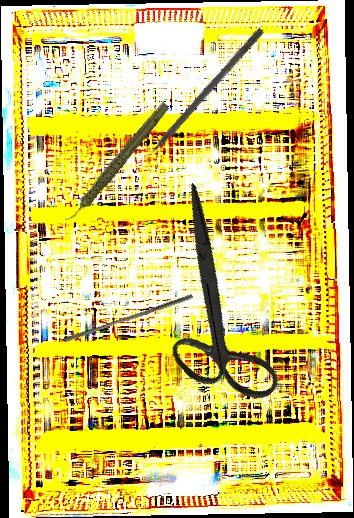Handpiece: (42, 100, 189, 224)
Iris Scissors: (94, 182, 336, 427)
Pusher: (131, 25, 266, 173), (63, 289, 194, 347)
